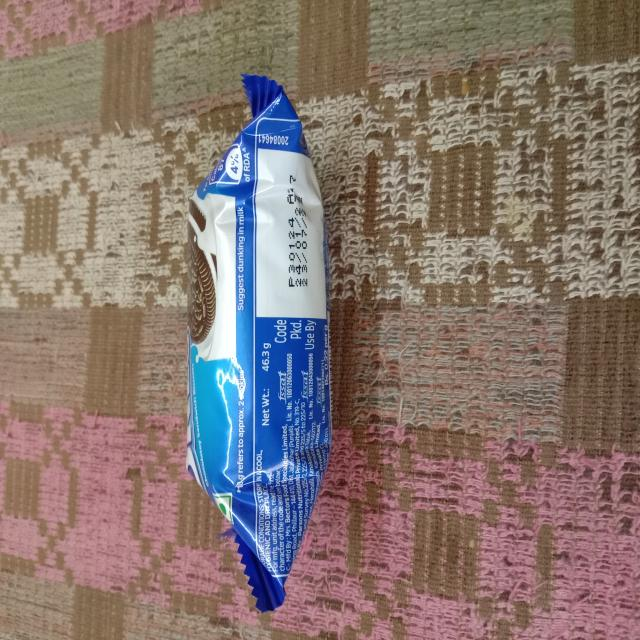oreo biscuit: (178, 68, 344, 609)
